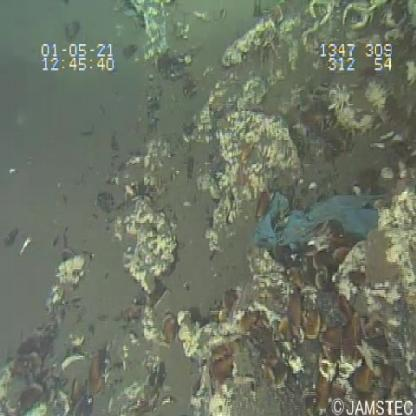Rác: (250, 181, 391, 262)
